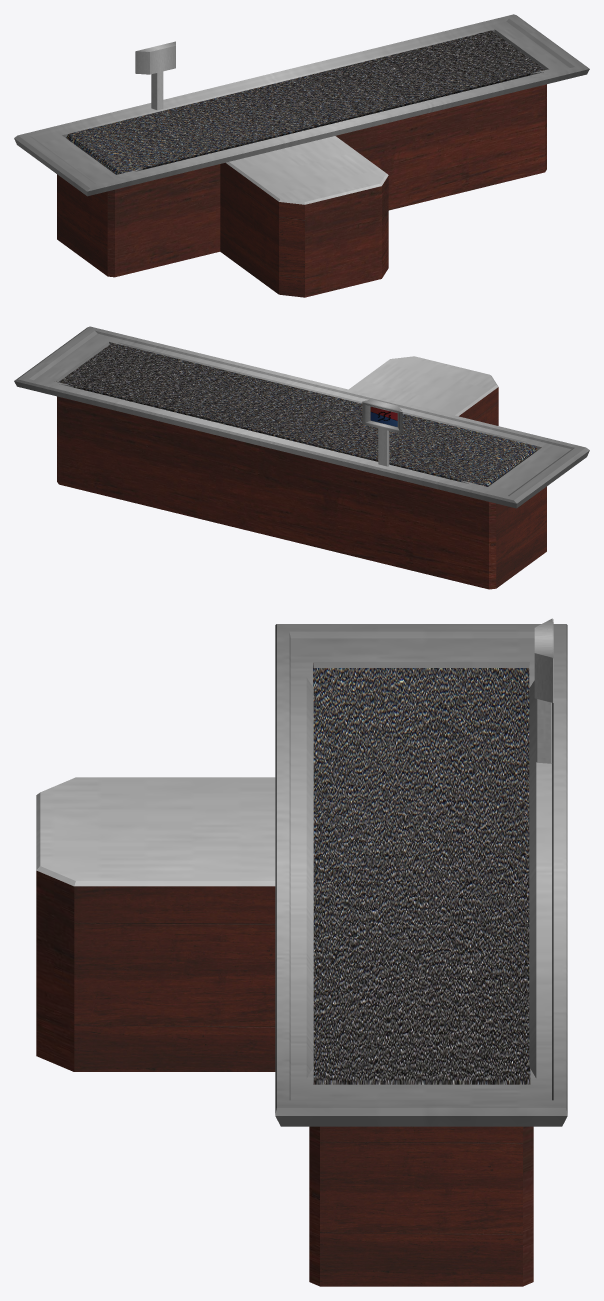
File: Checkout Line.fbx
3 views of the same model, one above another, from view 1: azimuth 30°, elevation 25°; view 2: azimuth 150°, elevation 25°; view 3: azimuth 270°, elevation 25° (orthographic). The views are drawn at different scales.
Parts seen in each view (by area): view 1: pCube1; view 2: pCube1; view 3: pCube1.
Boxes of the visible parts, x1,y1,x2,y2 form: pCube1: (14,14,589,297); pCube1: (14,326,589,589); pCube1: (36,618,567,1286).
Size of the model in its own units: 8.68 by 2.67 by 3.98.
